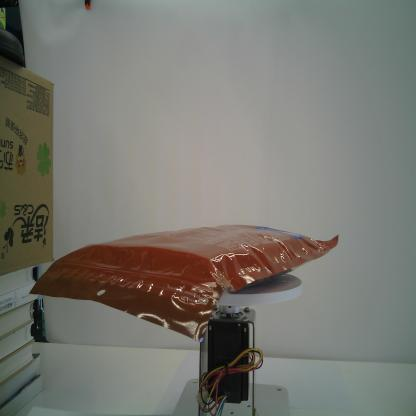Dried Food: (28, 222, 340, 345)
